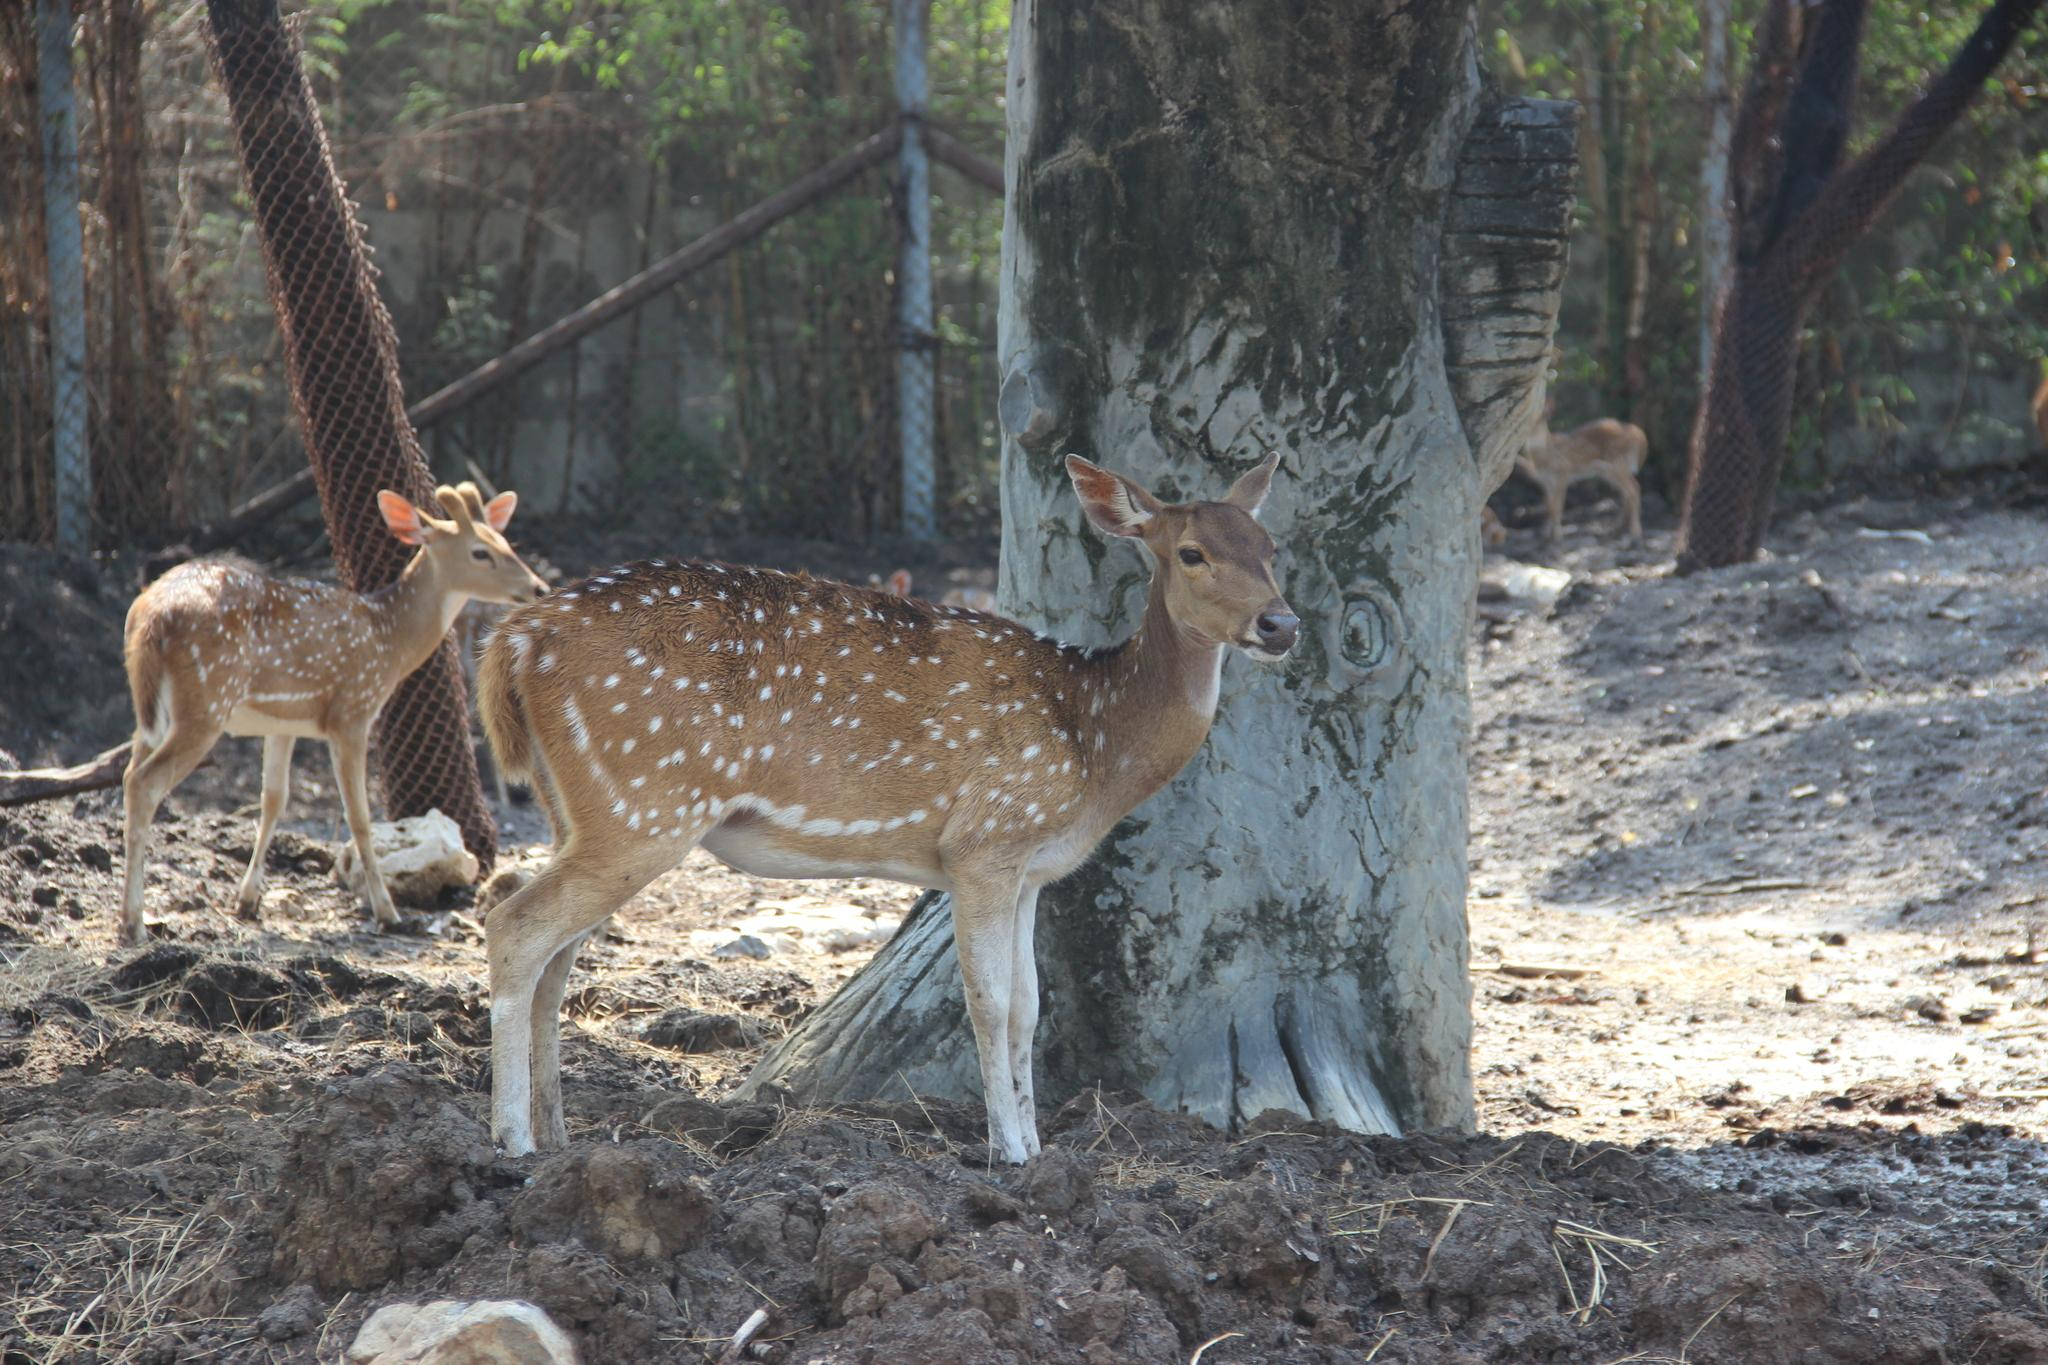Deer: (480, 456, 1302, 1159), (120, 483, 550, 938)
